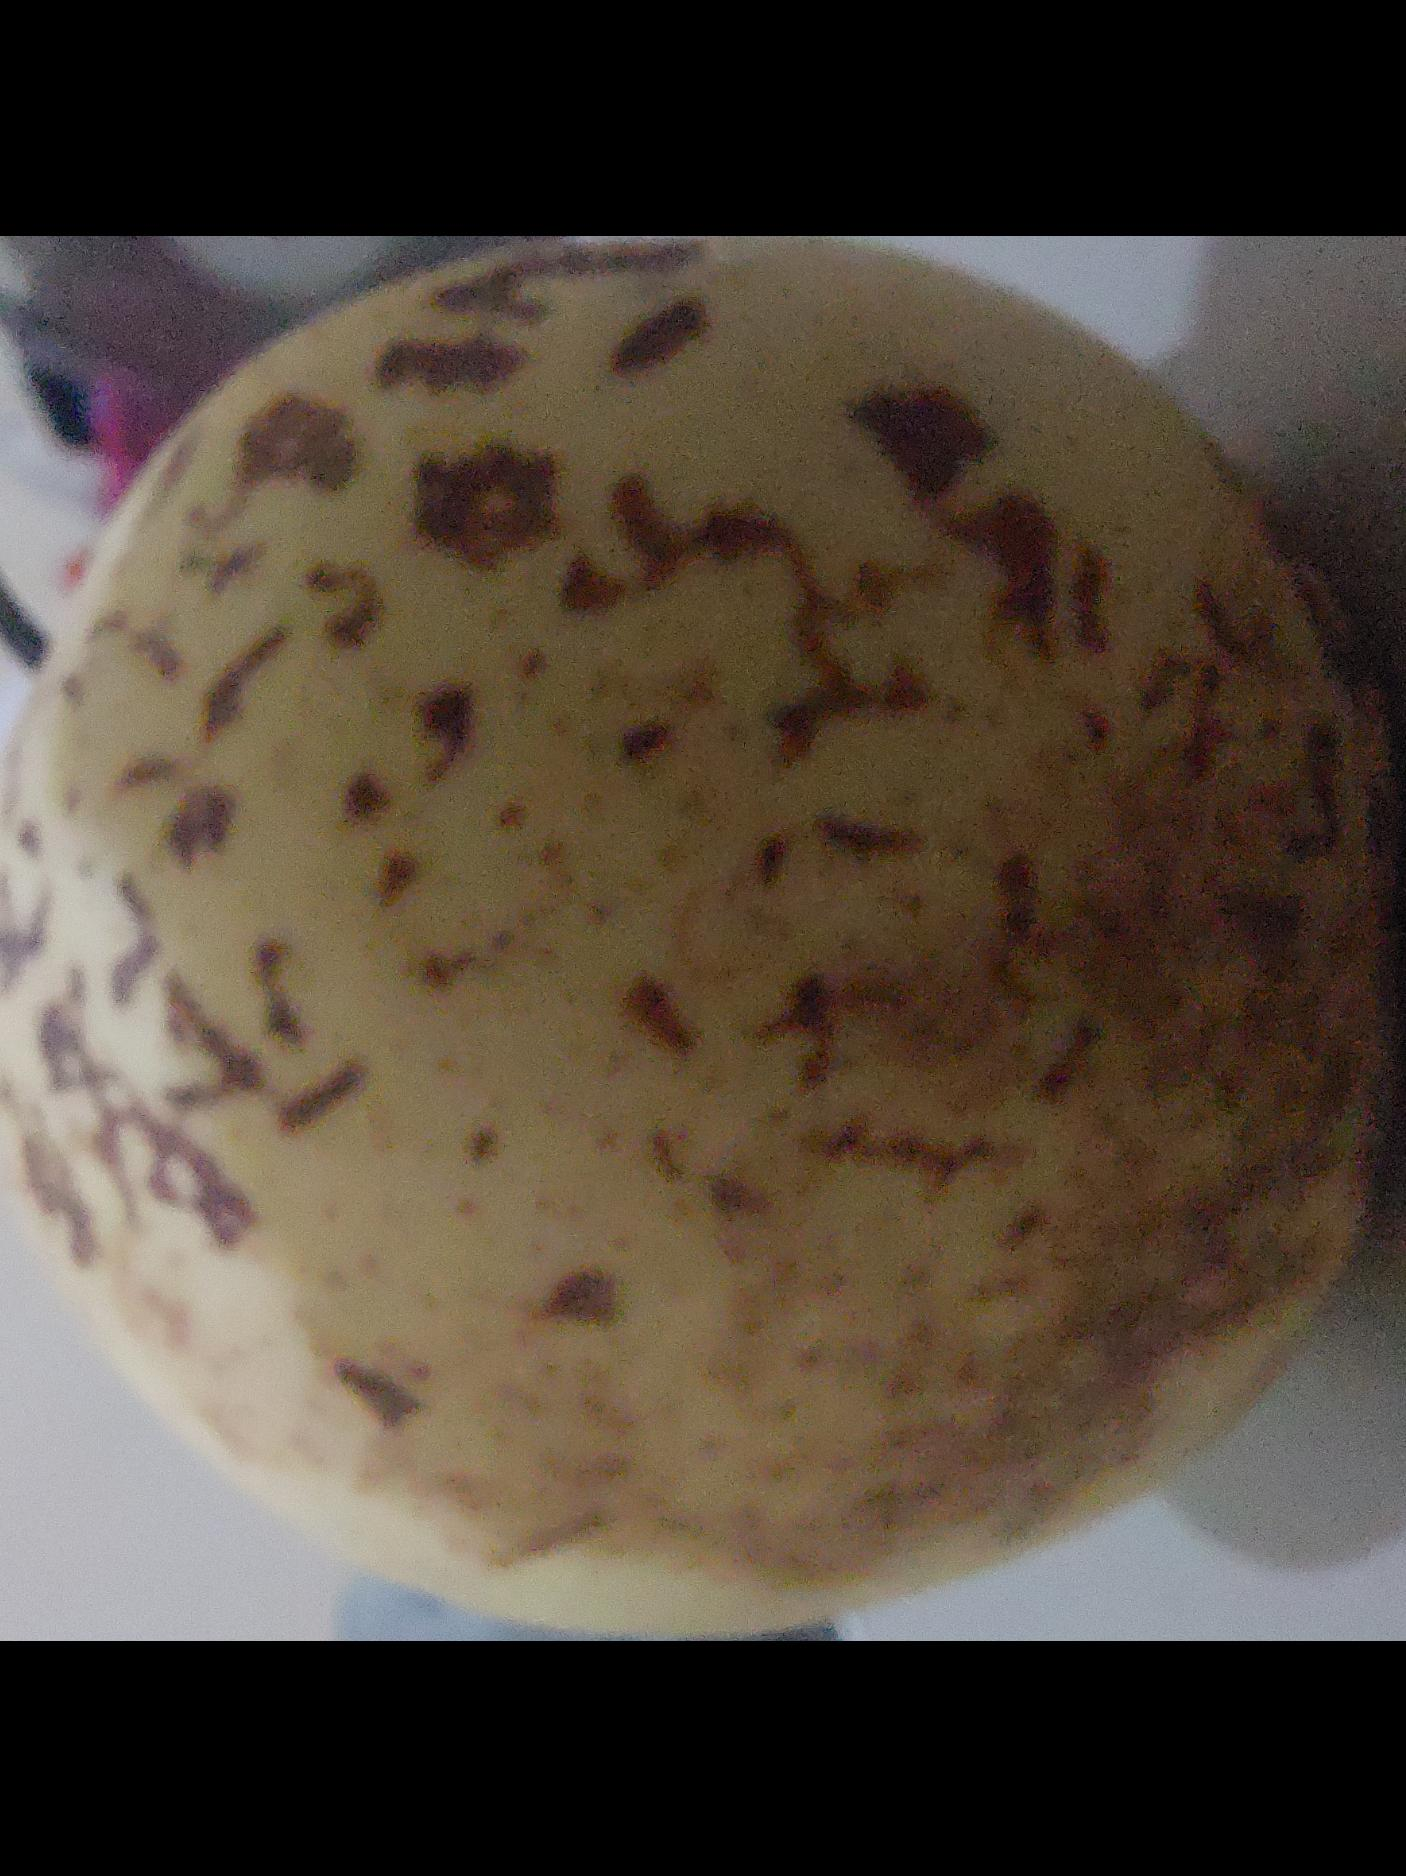Bad Pear: (0, 235, 1406, 1620)
